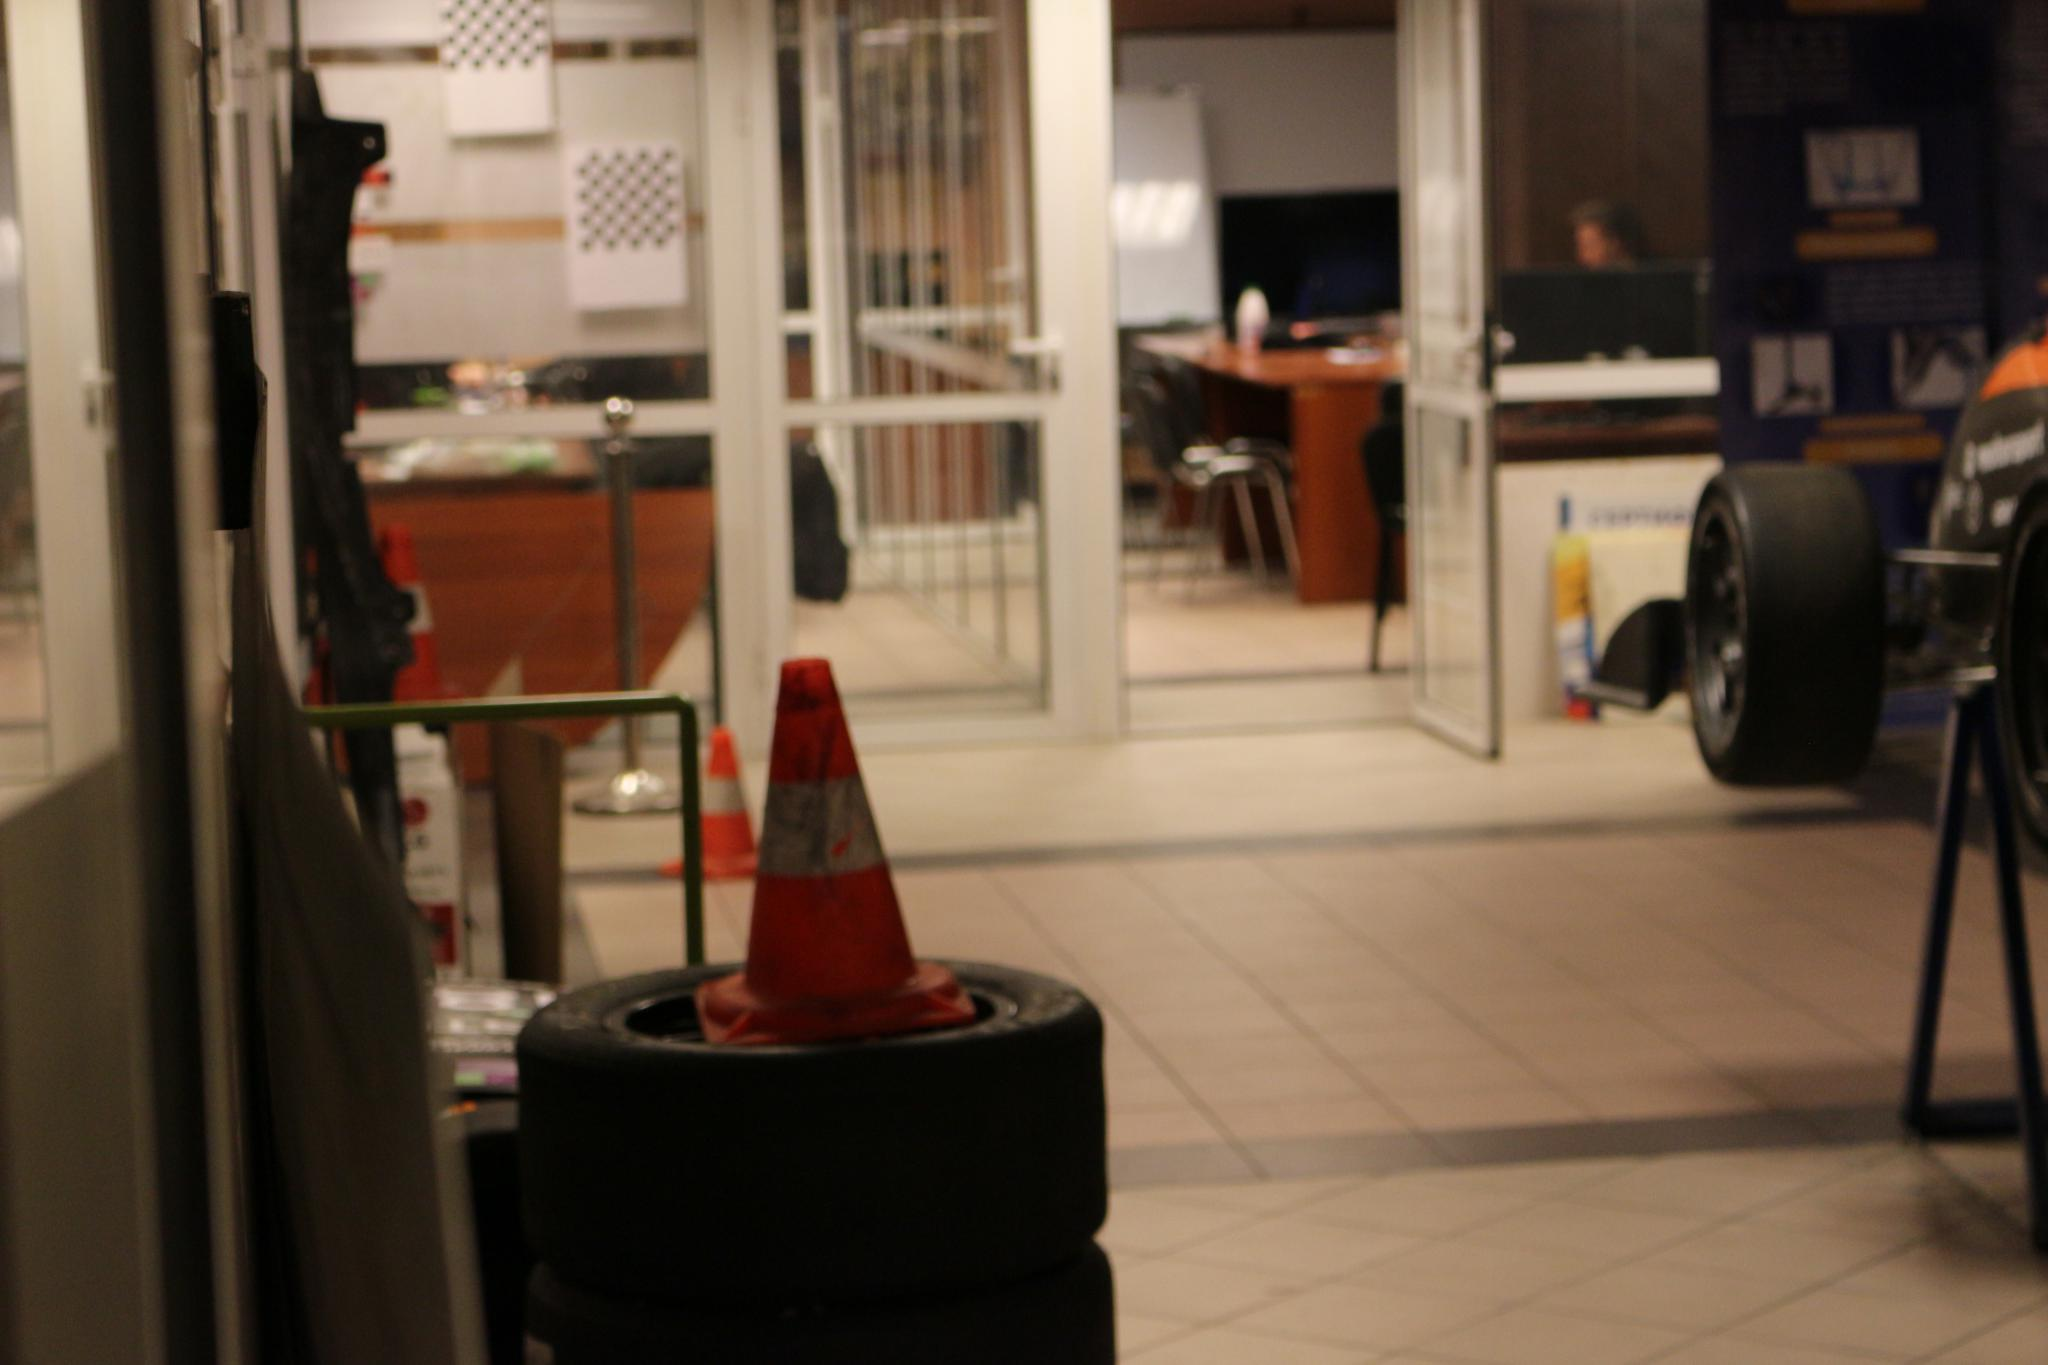Orange_Cone: (705, 640, 979, 1031), (647, 698, 790, 885), (364, 497, 455, 727)
